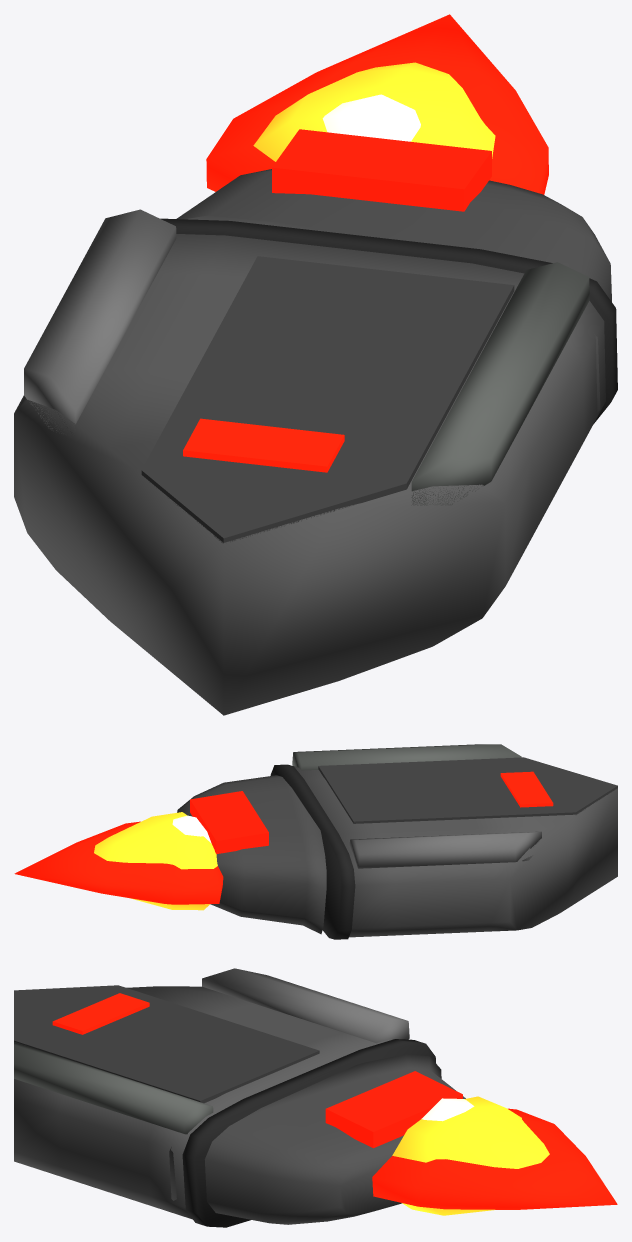
Rendered from newshg-167-f2.glb.
The picture shows the model from 3 angles, top to bottom: view 1: azimuth 30°, elevation 25°; view 2: azimuth 150°, elevation 25°; view 3: azimuth 270°, elevation 25°; orthographic projection. The views are drawn at different scales.
Visible parts, largest first — view 1: newshg-167, newshg-167-f2-flame; view 2: newshg-167, newshg-167-f2-flame; view 3: newshg-167, newshg-167-f2-flame.
Part boxes in pixels (box(x1,y1,x2,y2)): newshg-167: box(14, 129, 617, 715); newshg-167-f2-flame: box(206, 14, 548, 194); newshg-167: box(177, 744, 617, 939); newshg-167-f2-flame: box(14, 812, 223, 910); newshg-167: box(14, 968, 465, 1227); newshg-167-f2-flame: box(372, 1096, 617, 1215).
Bounding box in the file's own units: 1.44 × 0.4769 × 1.69.
